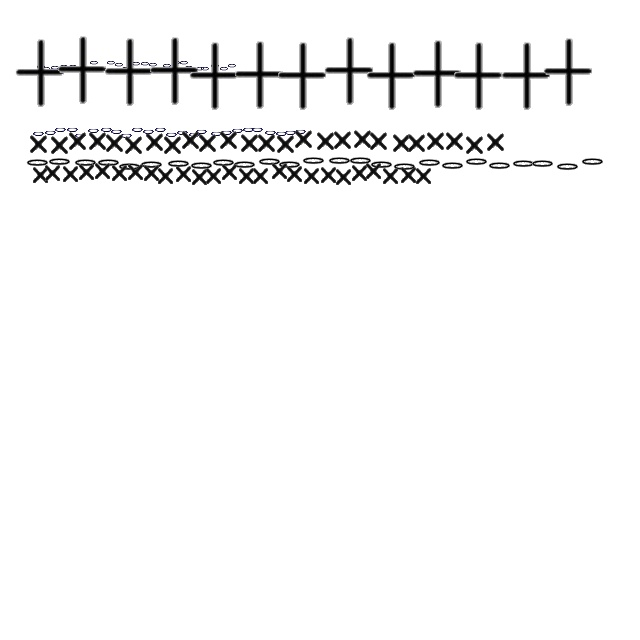chain: (96, 158, 122, 168), (166, 159, 192, 169), (232, 160, 258, 170), (348, 156, 374, 166), (392, 162, 418, 172), (440, 161, 466, 171), (464, 157, 490, 167), (530, 159, 556, 169), (580, 157, 606, 167), (26, 158, 50, 168), (48, 157, 72, 167), (74, 158, 98, 168), (118, 162, 142, 172), (140, 160, 164, 170), (190, 161, 214, 171), (212, 158, 236, 168), (258, 157, 282, 167), (278, 160, 302, 170), (302, 156, 326, 166), (328, 156, 352, 166), (370, 160, 394, 170), (418, 158, 442, 168), (488, 161, 512, 171), (512, 159, 536, 169), (556, 162, 580, 172), (44, 128, 58, 138), (176, 128, 190, 138), (188, 130, 202, 140), (220, 128, 234, 138), (264, 128, 278, 138), (284, 128, 298, 138), (88, 126, 100, 136), (166, 130, 178, 140), (232, 126, 244, 136), (32, 130, 46, 138), (54, 126, 68, 134), (66, 126, 80, 134), (74, 132, 88, 140), (100, 126, 114, 134), (110, 128, 124, 136), (120, 132, 134, 140), (142, 128, 156, 136), (154, 126, 168, 134), (210, 130, 224, 138), (242, 126, 256, 134), (294, 128, 308, 136), (132, 126, 144, 134), (196, 128, 208, 136), (252, 126, 264, 134), (276, 130, 288, 138), (50, 64, 60, 72), (74, 64, 84, 72), (81, 64, 91, 72), (131, 60, 141, 68), (140, 60, 150, 68), (162, 62, 172, 70), (184, 64, 194, 72), (210, 62, 220, 70), (227, 62, 237, 70), (36, 64, 46, 70), (41, 66, 51, 72), (59, 64, 69, 70), (68, 64, 78, 70), (89, 60, 99, 66), (97, 66, 107, 72), (106, 60, 116, 66), (114, 62, 124, 68), (121, 66, 131, 72), (148, 62, 158, 68), (156, 66, 166, 72), (171, 60, 181, 66), (179, 60, 189, 66), (195, 66, 205, 72), (200, 66, 210, 72), (219, 66, 229, 72)
double: (54, 36, 108, 106), (101, 38, 155, 108), (186, 42, 240, 112), (274, 42, 328, 112), (363, 42, 417, 112), (409, 40, 463, 110), (450, 42, 504, 112), (498, 42, 552, 112), (540, 38, 594, 108), (12, 40, 66, 108), (146, 38, 200, 106), (231, 42, 285, 110), (321, 38, 375, 106), (28, 132, 50, 156), (144, 130, 166, 154), (180, 128, 202, 152), (218, 128, 240, 152), (332, 128, 354, 152), (104, 132, 126, 154), (162, 134, 184, 156), (256, 132, 278, 154), (352, 128, 374, 150), (368, 130, 390, 152), (406, 132, 428, 154), (444, 130, 466, 152), (464, 134, 486, 156), (276, 132, 296, 156), (486, 130, 506, 154), (50, 134, 70, 156), (68, 130, 88, 152), (88, 130, 108, 152), (124, 134, 144, 156), (198, 132, 218, 154), (240, 132, 260, 154), (294, 128, 314, 150), (316, 130, 336, 152), (392, 132, 412, 154), (426, 130, 446, 152), (110, 162, 130, 184), (142, 162, 162, 184), (190, 166, 210, 188), (270, 160, 290, 182), (334, 166, 354, 188), (350, 162, 370, 184), (364, 160, 384, 182), (126, 162, 146, 182), (156, 166, 176, 186), (174, 164, 194, 184), (204, 166, 224, 186), (220, 162, 240, 182), (302, 166, 322, 186), (414, 166, 434, 186), (32, 164, 50, 186), (44, 162, 62, 184), (94, 160, 112, 182), (320, 164, 338, 186), (400, 164, 418, 186), (62, 164, 80, 184), (78, 162, 96, 182), (238, 166, 256, 186), (252, 166, 270, 186), (286, 164, 304, 184), (382, 166, 400, 186)
